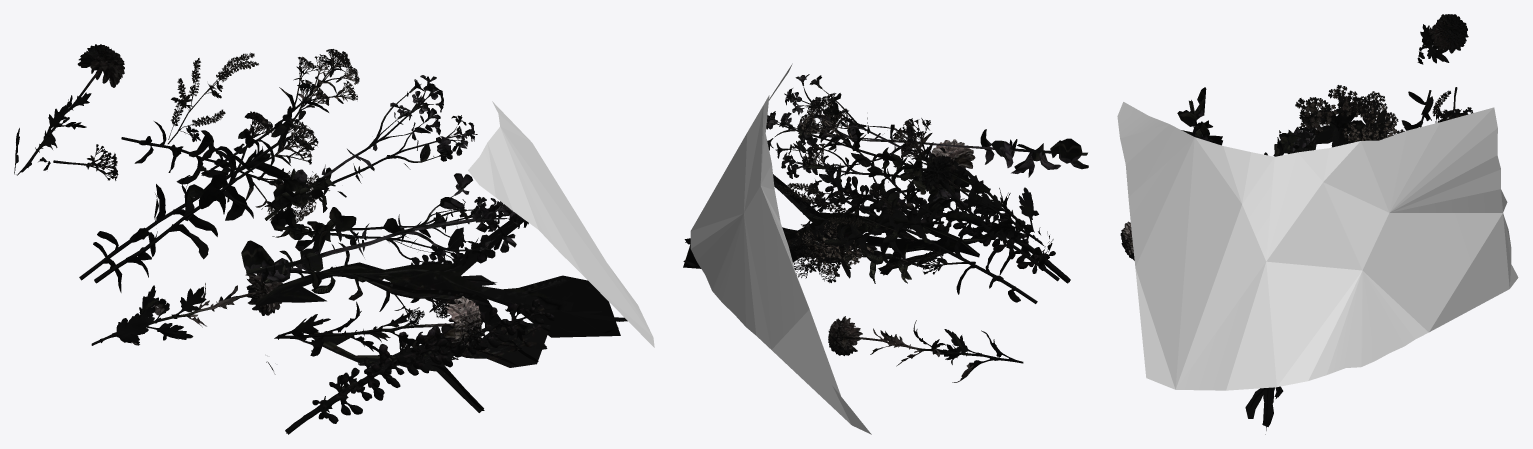
File: footer_compressed.glb
3 renders of one model, left to right at view 1: azimuth 30°, elevation 25°; view 2: azimuth 150°, elevation 25°; view 3: azimuth 270°, elevation 25°, orthographic. The views are drawn at different scales.
Parts seen in each view (by area): view 1: nord02_low, Proxy Cloth.005, at05_low, lt01_low, peri02_low, peri03_low, peri01_low, chrys02_low, chrys01_low, nord01_low, at01_low, chrys03_low (+4 smaller); view 2: Proxy Cloth.005, at05_low, peri02_low, lt01_low, peri03_low, at02_low, nord02_low, peri01_low, chrys01_low, at01_low, at03_low, chrys02_low (+4 smaller); view 3: Proxy Cloth.005, at05_low, at01_low, chrys03_low, peri02_low, peri03_low, nord02_low, at02_low.
Boxes of the visible parts, <box> form: nord02_low: <box>255,220,627,337</box>; Proxy Cloth.005: <box>468,101,654,347</box>; at05_low: <box>79,79,329,292</box>; lt01_low: <box>285,298,554,434</box>; peri02_low: <box>241,173,528,290</box>; peri03_low: <box>261,75,477,231</box>; peri01_low: <box>272,196,509,266</box>; chrys02_low: <box>266,296,482,374</box>; chrys01_low: <box>91,267,282,345</box>; nord01_low: <box>309,311,550,412</box>; at01_low: <box>197,49,359,175</box>; chrys03_low: <box>14,44,124,175</box>; Proxy Cloth.005: <box>690,63,871,434</box>; at05_low: <box>802,118,1059,303</box>; peri02_low: <box>798,114,1088,183</box>; lt01_low: <box>825,176,1070,283</box>; peri03_low: <box>766,74,970,187</box>; at02_low: <box>801,198,944,275</box>; nord02_low: <box>683,174,979,268</box>; peri01_low: <box>781,137,971,233</box>; chrys01_low: <box>828,316,1023,382</box>; at01_low: <box>799,93,946,213</box>; at03_low: <box>790,229,934,283</box>; chrys02_low: <box>926,139,1053,252</box>; Proxy Cloth.005: <box>1117,102,1518,390</box>; at05_low: <box>1295,85,1404,147</box>; at01_low: <box>1341,91,1398,142</box>; chrys03_low: <box>1417,14,1468,64</box>; peri02_low: <box>1177,87,1222,145</box>; peri03_low: <box>1279,127,1316,153</box>; nord02_low: <box>1245,386,1283,434</box>; at02_low: <box>1401,90,1433,130</box>.
Size of the model in its own units: 11.15 by 6.32 by 9.02.
Materials: 15 (15 with a texture image).
